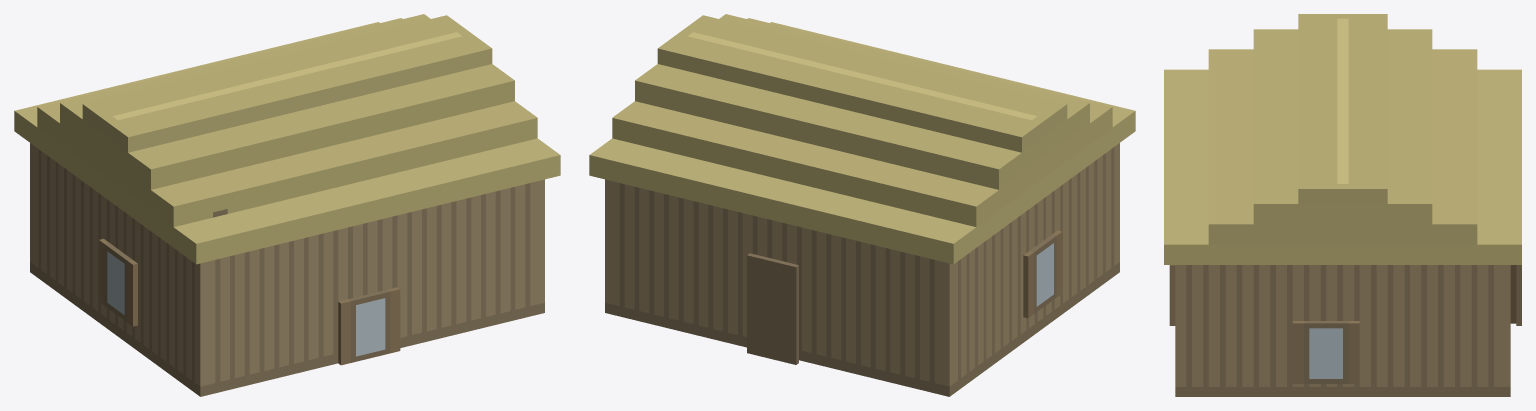
The model's file is campamento_hostil_01.glb.
3 renders of one model, left to right at view 1: azimuth 30°, elevation 25°; view 2: azimuth 150°, elevation 25°; view 3: azimuth 270°, elevation 25°, orthographic.
Visible parts, largest first — view 1: campamento_hostil_01; view 2: campamento_hostil_01; view 3: campamento_hostil_01.
Part boxes in pixels (x1,y1,x2,y2): campamento_hostil_01: (14, 14, 560, 396); campamento_hostil_01: (589, 14, 1135, 396); campamento_hostil_01: (1164, 14, 1521, 396).
Size of the model in its own units: 7.4 by 4.2 by 6.4.
